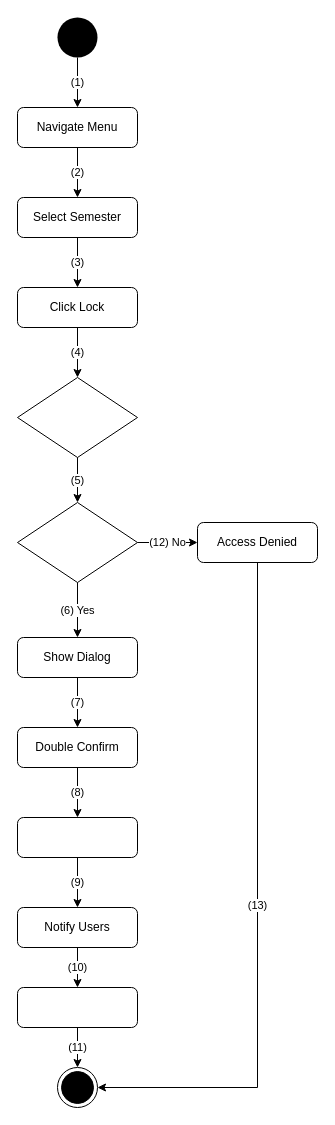
The diagram is 335 pixels wide and 1125 high, and some of its shapes have lost their labels. The shapes that lost their labels are listed below. From the top down, each one's centre as x and y in pixels, then its label:
At [77,417]: "Check Auth".
At [77,542]: "Is Auth".
At [77,837]: "Apply Lock".
At [77,1007]: "Update Status".
